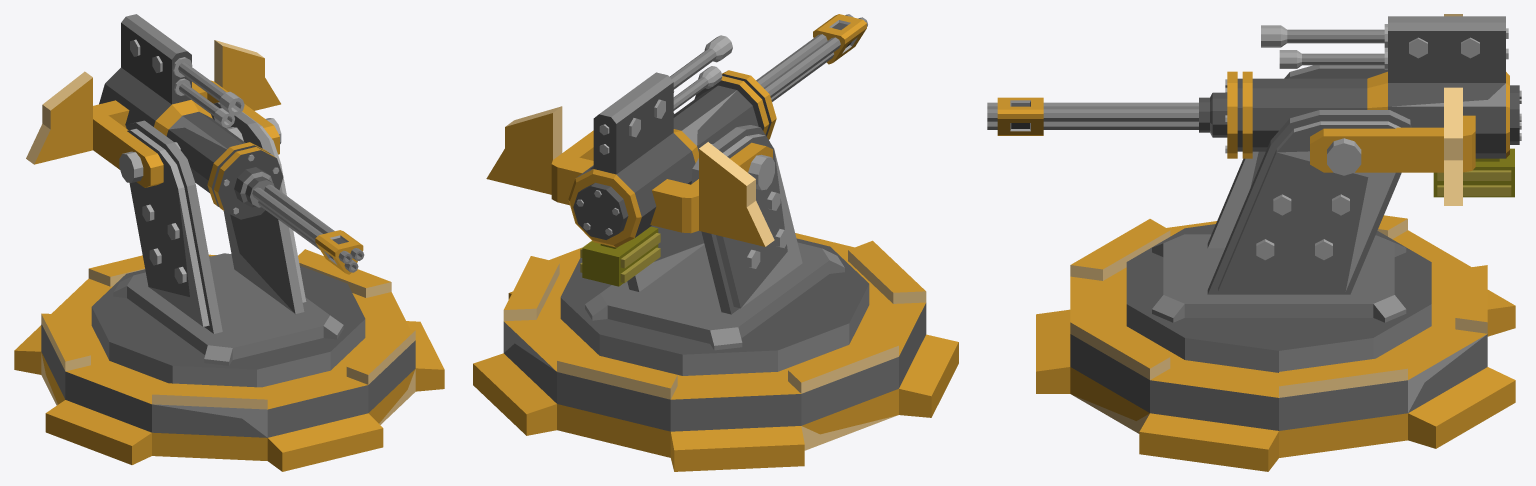
The model's file is tower_minigun_yellow_3.fbx.
The picture shows the model from 3 angles, left to right: view 1: azimuth 30°, elevation 25°; view 2: azimuth 150°, elevation 25°; view 3: azimuth 270°, elevation 25°; orthographic projection. The views are drawn at different scales.
Parts seen in each view (by area): view 1: top_minigun_yellow_3, tower_minigun_yellow_3; view 2: top_minigun_yellow_3, tower_minigun_yellow_3; view 3: top_minigun_yellow_3, tower_minigun_yellow_3.
Boxes of the visible parts, x1,y1,x2,y2 form: top_minigun_yellow_3: (26, 14, 365, 387); tower_minigun_yellow_3: (14, 249, 444, 471); top_minigun_yellow_3: (486, 14, 869, 375); tower_minigun_yellow_3: (473, 233, 958, 471); top_minigun_yellow_3: (987, 14, 1521, 372); tower_minigun_yellow_3: (1036, 215, 1515, 471).
Bounding box in the file's own units: 167 × 126 × 177.
